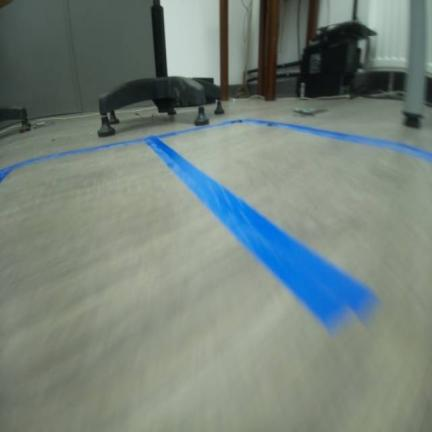place: (0, 134, 381, 431), (141, 118, 431, 356)
